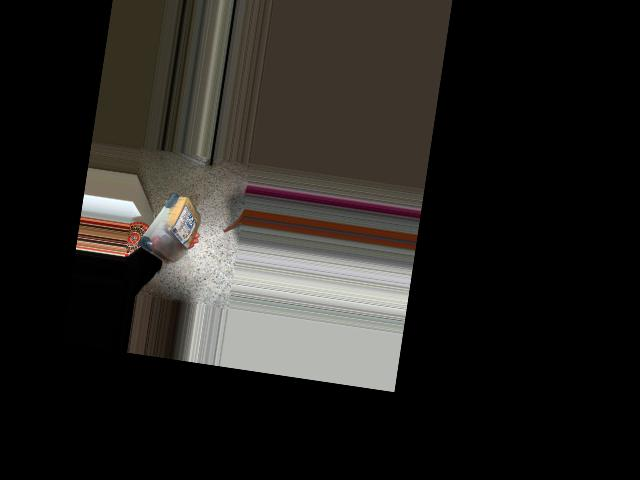cheese: (135, 185, 205, 278)
